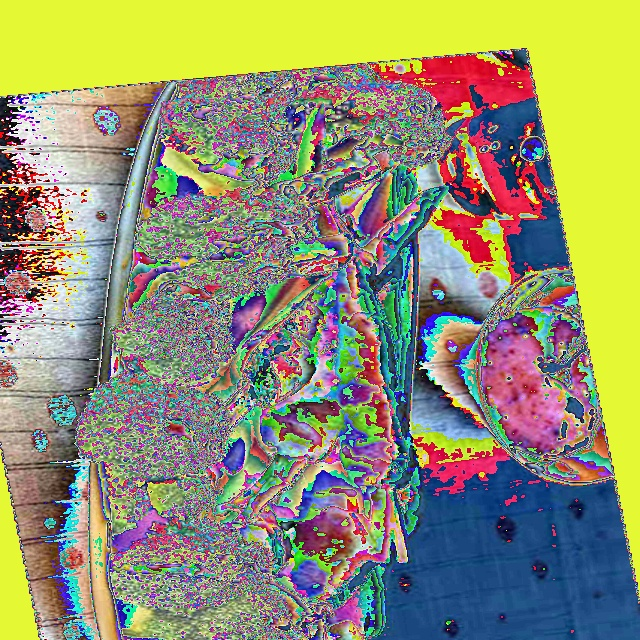background: (77, 64, 454, 639), (120, 153, 602, 460)
